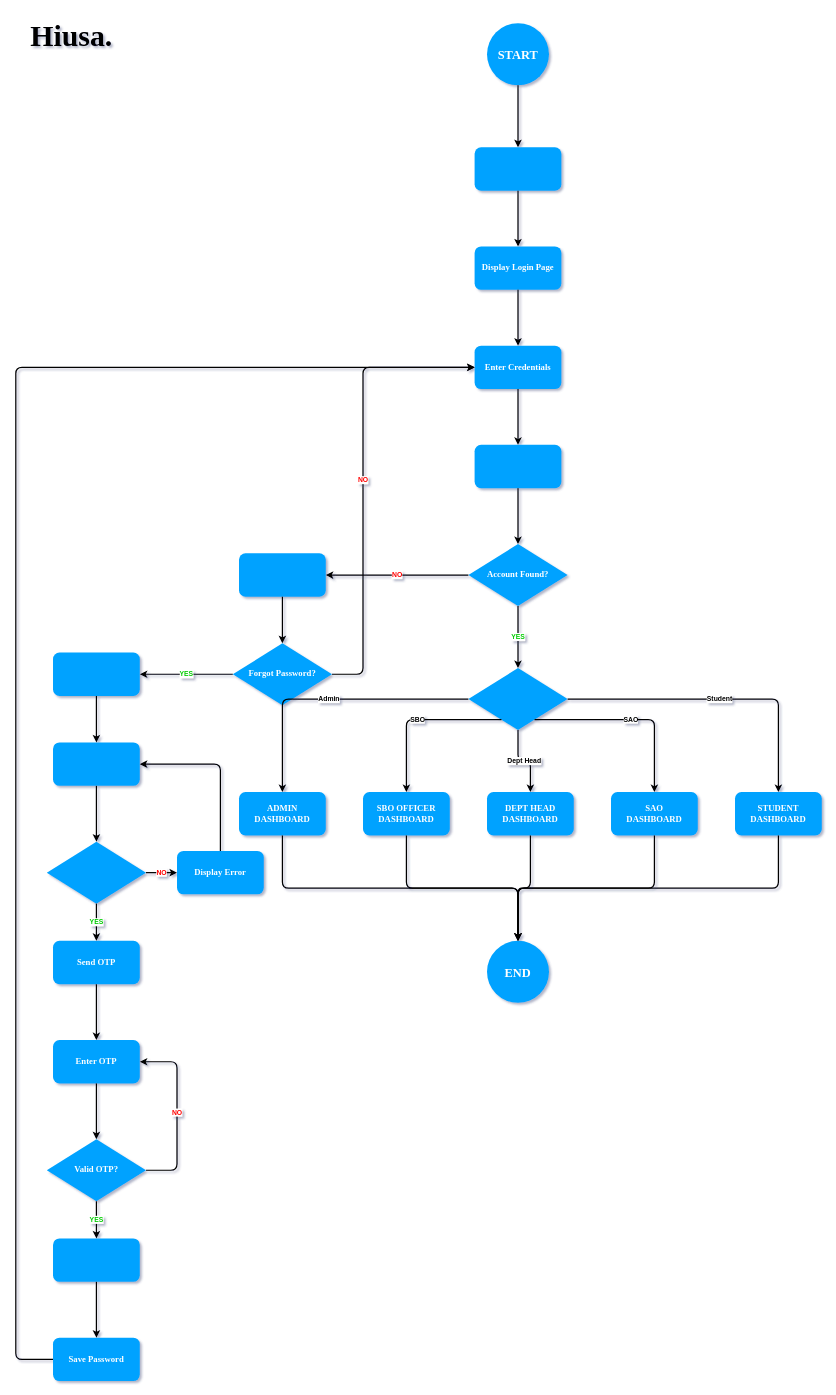
The diagram is 836 pixels wide and 1395 high, and some of its shapes have lost their labels. Each missing label, with the centre of its shape:
Access Web App: the point at 517,168
Account Recovery: the point at 96,674
Email Registered?: the point at 96,872
Enter Email: the point at 96,764
Enter New Password: the point at 96,1260
Identify Role: the point at 517,699
Login Error: the point at 282,574
Retrieve User Data: the point at 517,466
